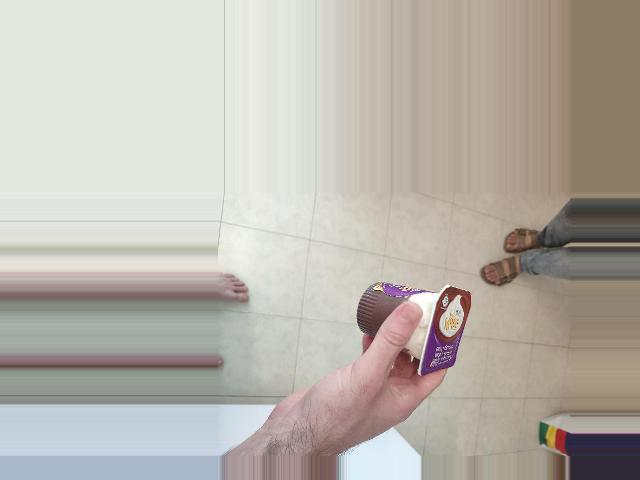milky: (354, 277, 455, 374)
